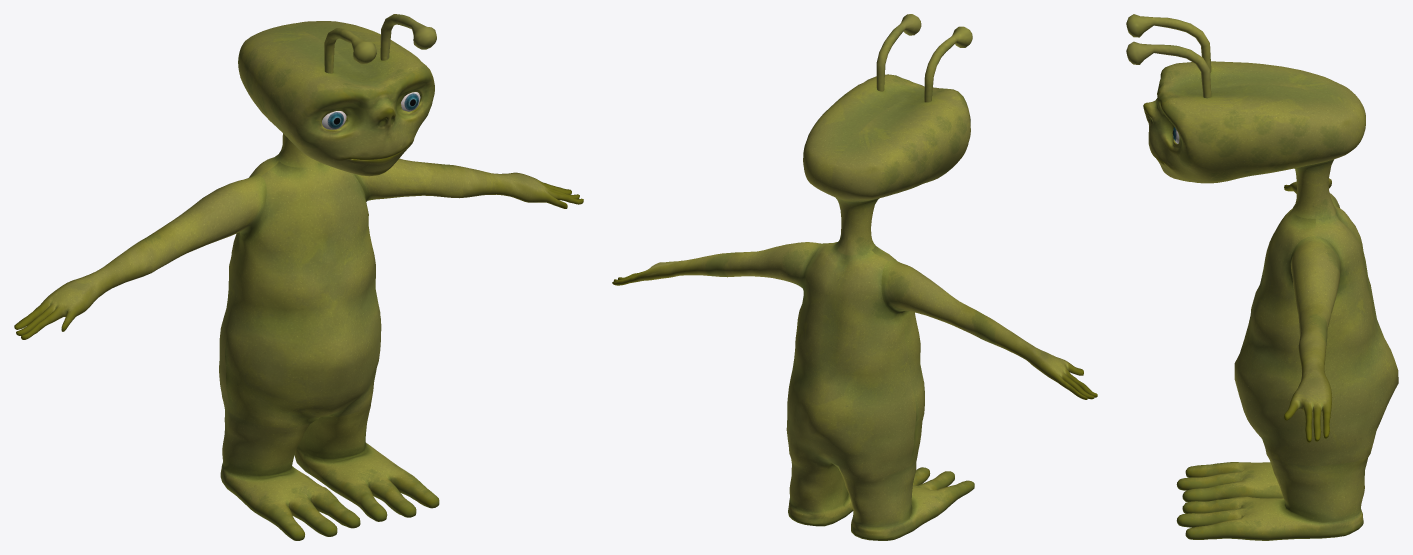
Rendered from alien.fbx.
3 views of the same model, side by side, from view 1: azimuth 30°, elevation 25°; view 2: azimuth 150°, elevation 25°; view 3: azimuth 270°, elevation 25° (orthographic). The views are drawn at different scales.
Parts seen in each view (by area): view 1: polySurface7, Zb_Alien_Eye; view 2: polySurface7; view 3: polySurface7.
Part boxes in pixels (x1,y1,x2,y2): polySurface7: (14,14,583,540); Zb_Alien_Eye: (322,92,420,129); polySurface7: (612,14,1097,540); polySurface7: (1126,14,1398,540).
Size of the model in its own units: 35.66 by 31.09 by 15.94.
Materials: 2 (2 with a texture image).
